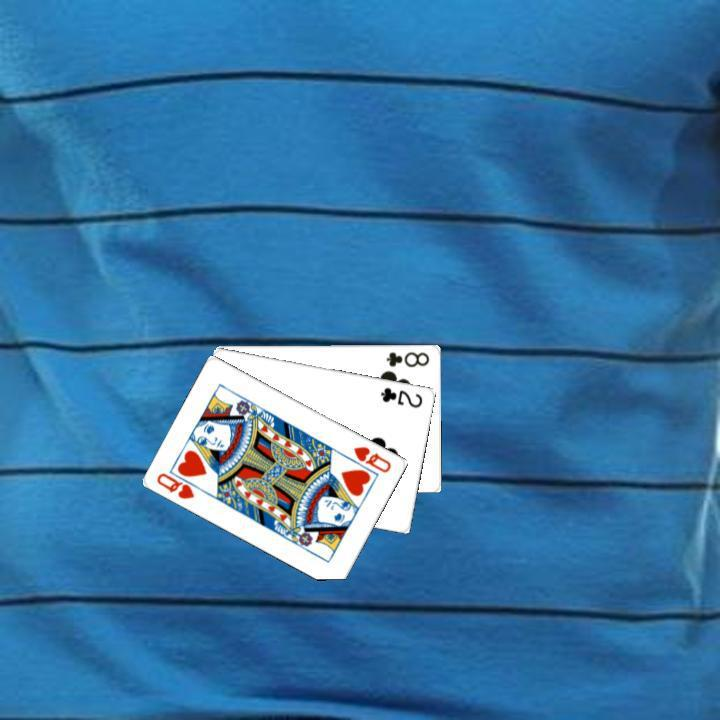2: (377, 383, 425, 409)
8: (382, 347, 431, 368)
Q: (153, 465, 206, 501), (350, 442, 394, 475)
